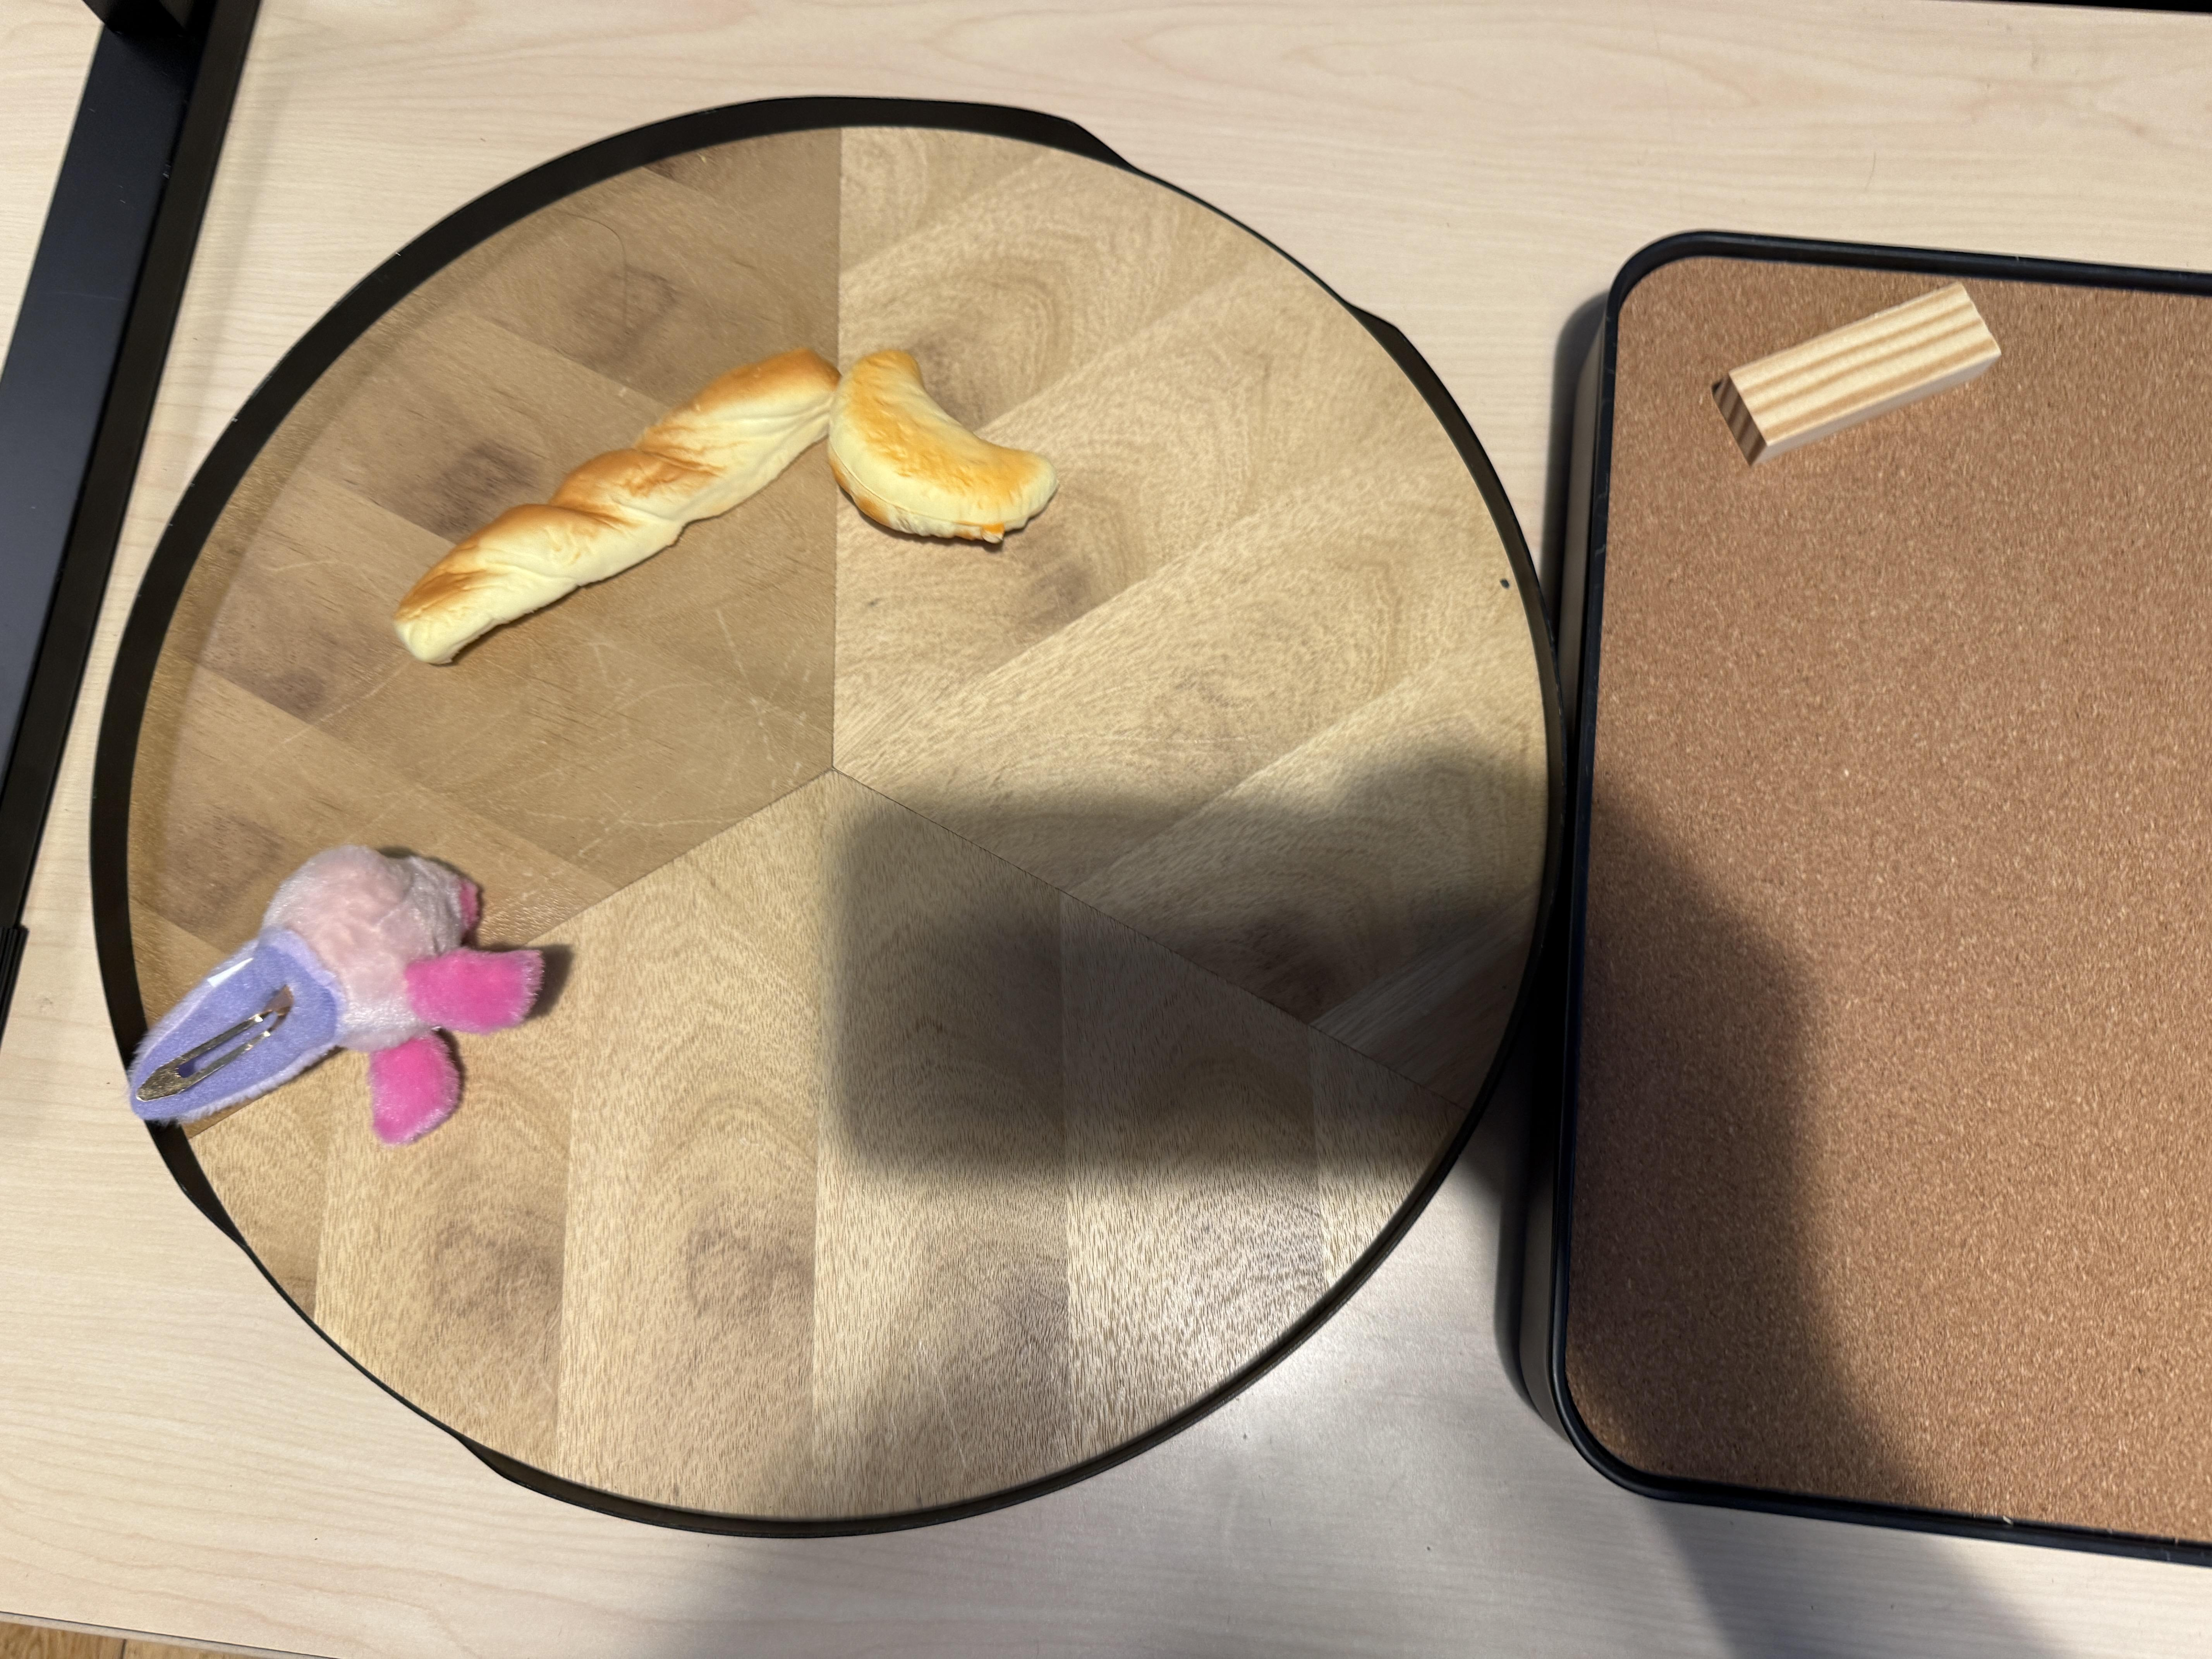block: (1714, 279, 2005, 464)
bread: (394, 349, 838, 666), (826, 347, 1059, 549)
doll: (127, 847, 549, 1145)
